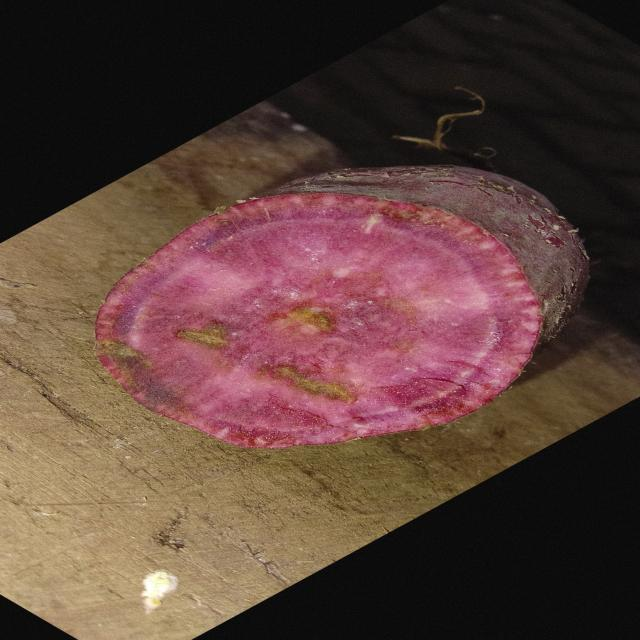Sick Sweet Potato_Tuber Rot: (98, 194, 540, 448)
